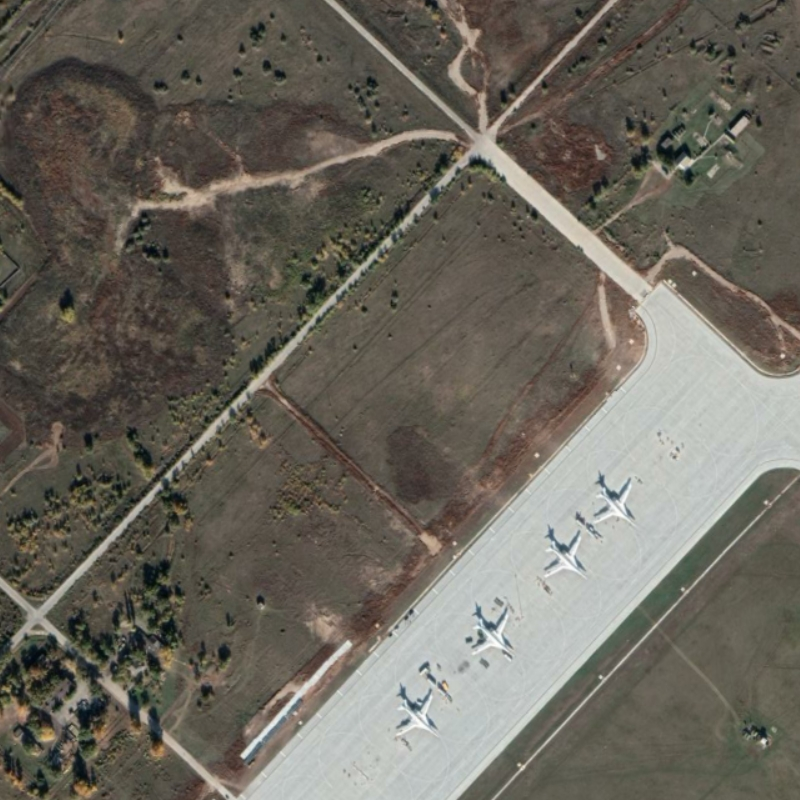A6: (468, 604, 518, 660), (589, 476, 639, 528), (390, 689, 441, 739), (541, 532, 590, 582)
